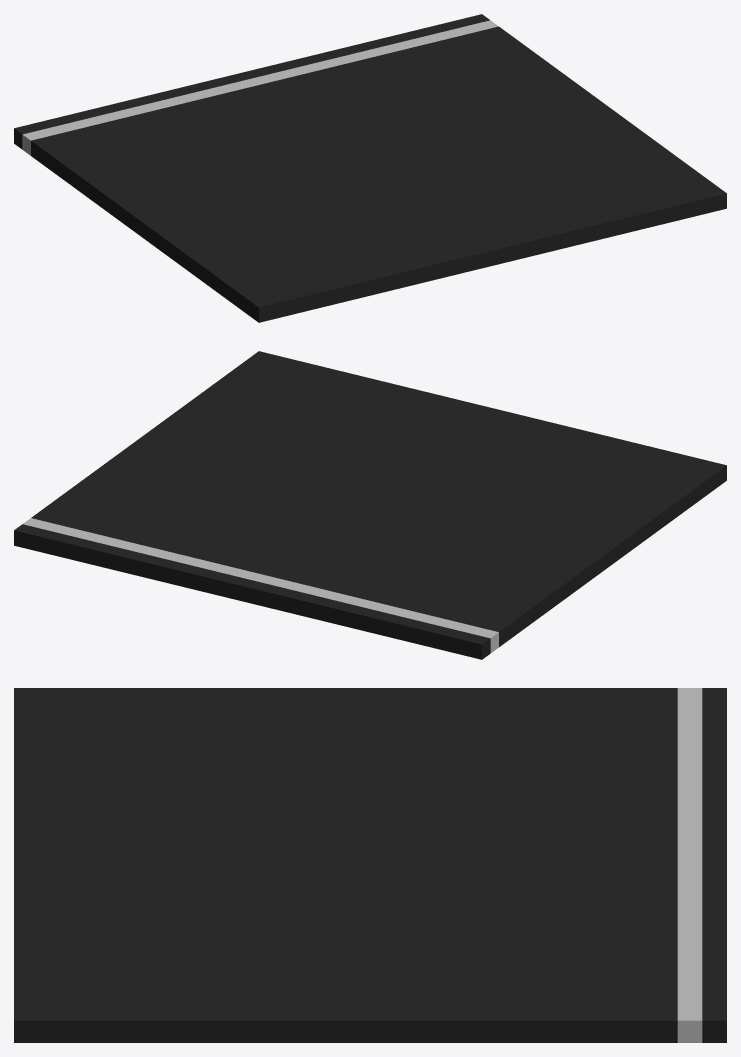
File: asphalt-side.gltf
3 views of the same model, one above another, from view 1: azimuth 30°, elevation 25°; view 2: azimuth 150°, elevation 25°; view 3: azimuth 270°, elevation 25° (orthographic). The views are drawn at different scales.
Visible parts, largest first — view 1: asphalt-side_model; view 2: asphalt-side_model; view 3: asphalt-side_model.
Part boxes in pixels (<box>): asphalt-side_model: <box>14,14,726,322</box>; asphalt-side_model: <box>14,351,726,659</box>; asphalt-side_model: <box>14,688,726,1042</box>.
Bounding box in the file's own units: 3.2 × 0.1 × 2.9.
1 material, 1 textured.
